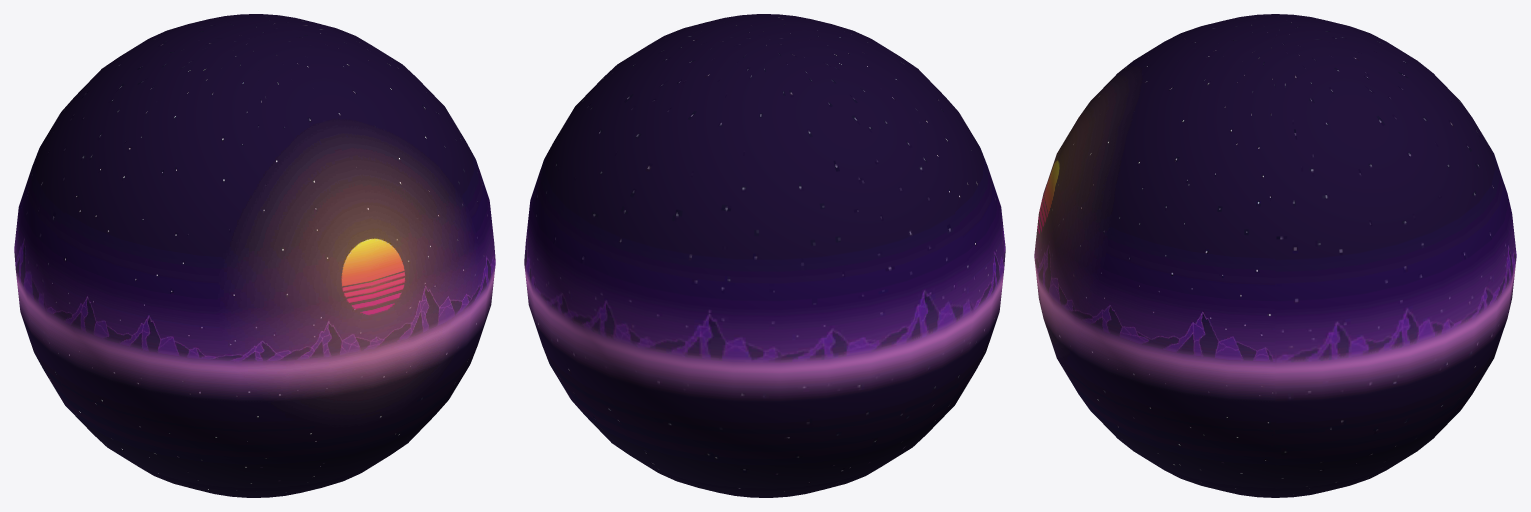
Rendered from haikei.fbx.
3 views of the same model, side by side, from view 1: azimuth 30°, elevation 25°; view 2: azimuth 150°, elevation 25°; view 3: azimuth 270°, elevation 25° (orthographic).
Bounding box in the file's own units: 118 × 118 × 118.
